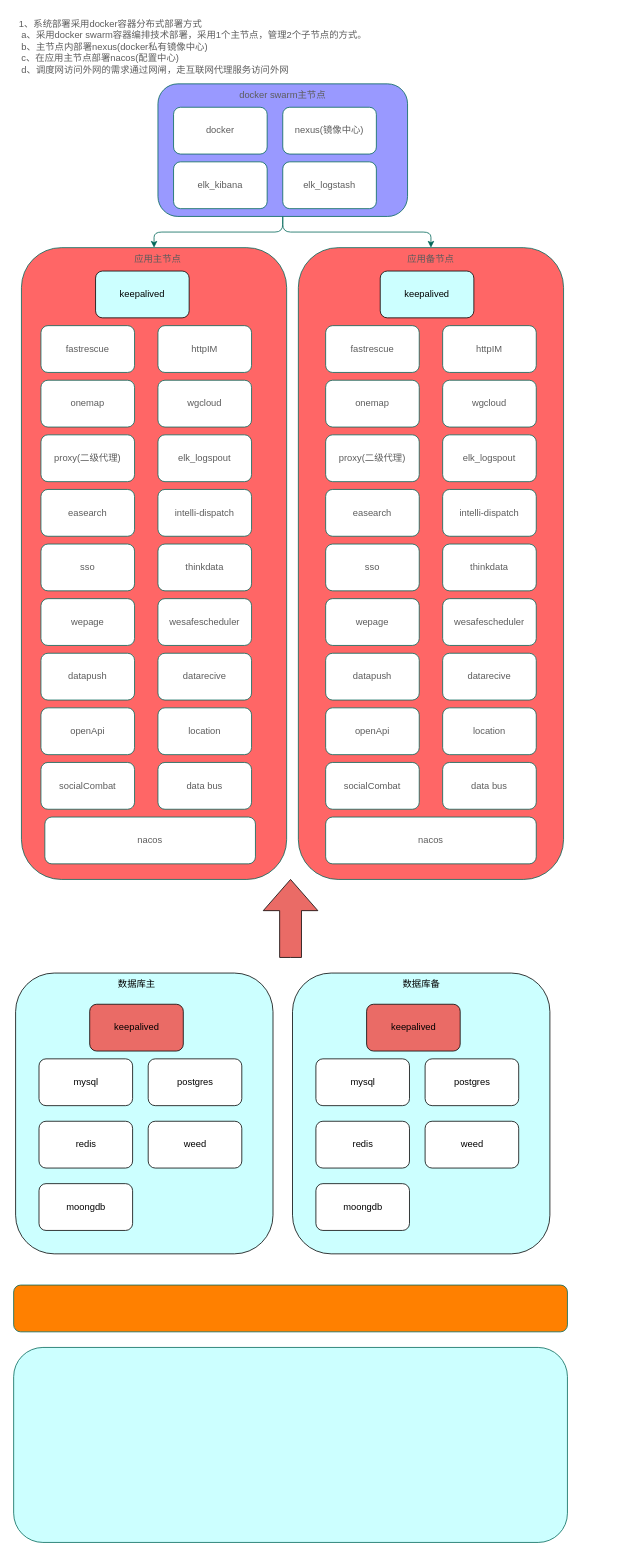
Image size: 632x1556. Some labels were removed from this diagram. The centre of each missing label's shape, as x and y in pixels:
"互联网服务器" belongs at point 290,1444.
"网 闸" belongs at point 290,1308.
